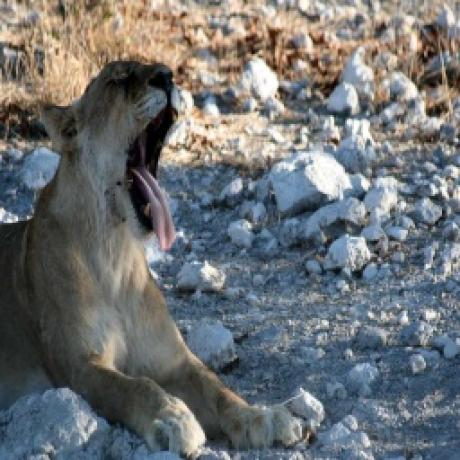Lion: (0, 55, 327, 459)
